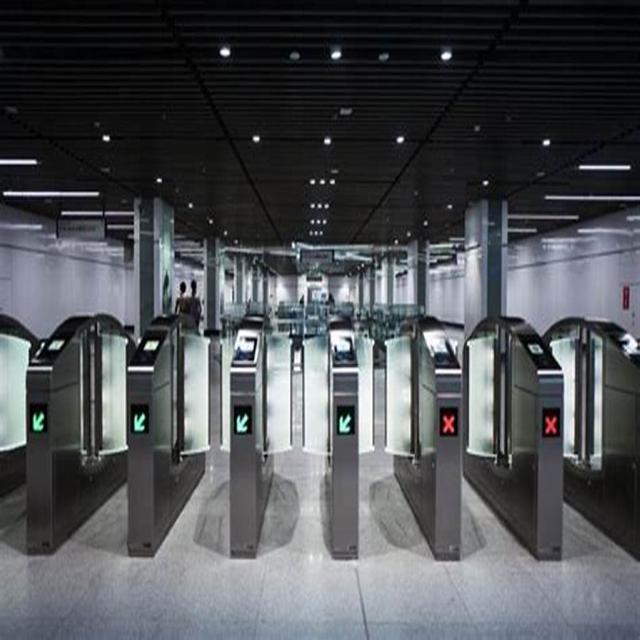torniquete: (26, 315, 101, 554), (128, 315, 201, 556), (491, 319, 562, 560), (394, 317, 462, 560), (230, 317, 272, 558), (329, 328, 359, 558)
